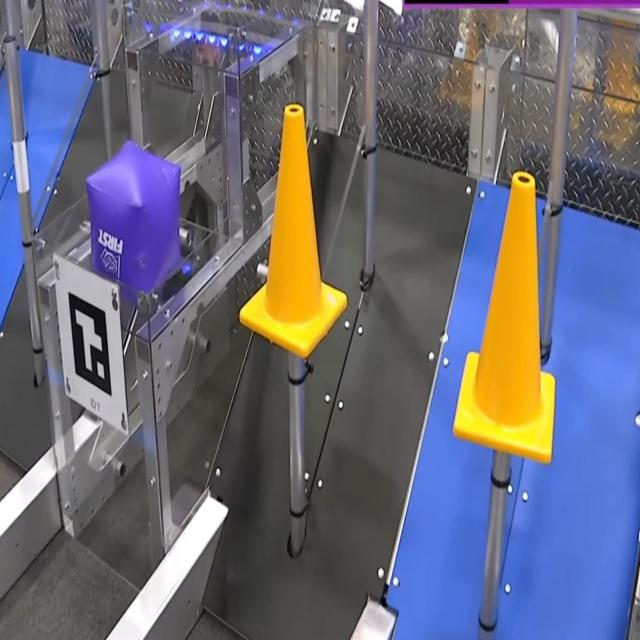frc_cone: (453, 172, 558, 462), (241, 107, 348, 355)
frc_cube: (81, 134, 183, 310)
